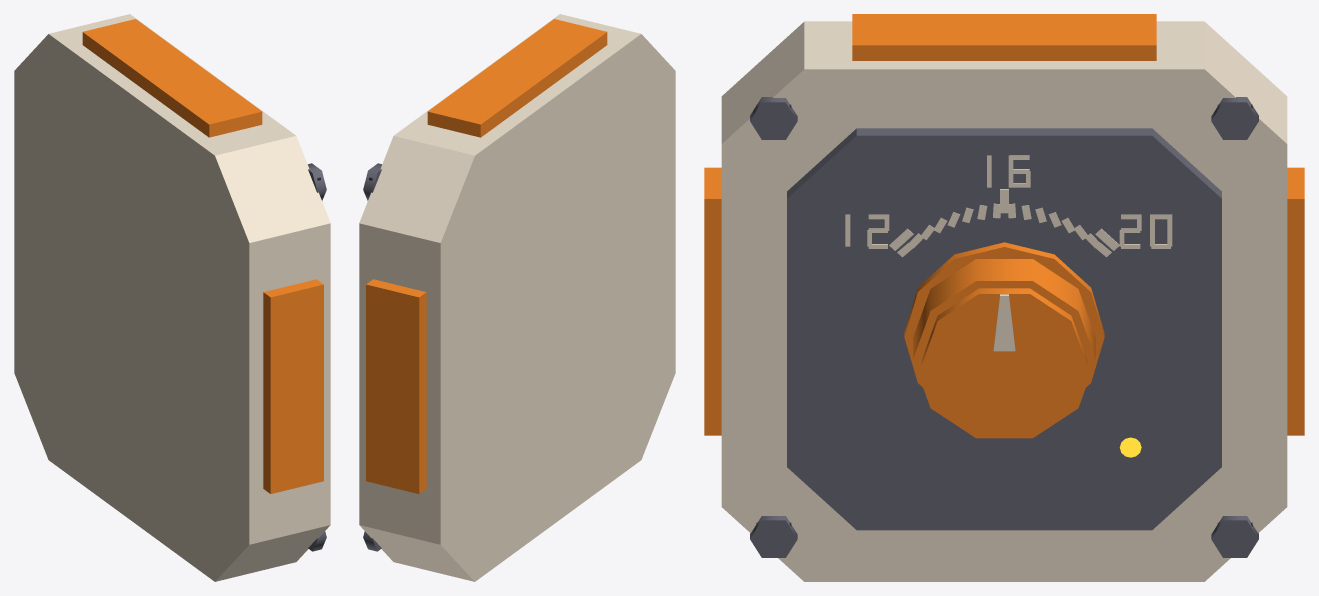
File: asset.glb
3 views of the same model, side by side, from view 1: azimuth 30°, elevation 25°; view 2: azimuth 150°, elevation 25°; view 3: azimuth 270°, elevation 25° (orthographic). The views are drawn at different scales.
Visible parts, largest first — view 1: Mesh_HousingBody, Mesh_SideAccentL, Mesh_TopAccent; view 2: Mesh_HousingBody, Mesh_SideAccentR, Mesh_TopAccent; view 3: Mesh_InnerBezel, Mesh_HousingBody, Mesh_KnobCap, Mesh_TopAccent, Mesh_KnobBody, Mesh_SideAccentL, Mesh_SideAccentR, Mesh_KnobCollar, Mesh_CornerBolt_0, Mesh_CornerBolt_1, Mesh_CornerBolt_2, Mesh_CornerBolt_3 (+1 smaller).
Boxes of the visible parts, bbox=[...] form: Mesh_HousingBody: bbox=[14, 14, 330, 581]; Mesh_SideAccentL: bbox=[263, 279, 323, 493]; Mesh_TopAccent: bbox=[82, 19, 262, 137]; Mesh_HousingBody: bbox=[359, 14, 675, 581]; Mesh_SideAccentR: bbox=[366, 279, 426, 493]; Mesh_TopAccent: bbox=[427, 19, 607, 137]; Mesh_InnerBezel: bbox=[787, 128, 1221, 530]; Mesh_HousingBody: bbox=[721, 21, 1287, 581]; Mesh_KnobCap: bbox=[921, 288, 1087, 436]; Mesh_TopAccent: bbox=[852, 14, 1156, 60]; Mesh_KnobBody: bbox=[913, 259, 1095, 438]; Mesh_SideAccentL: bbox=[704, 167, 721, 435]; Mesh_SideAccentR: bbox=[1287, 167, 1304, 435]; Mesh_KnobCollar: bbox=[904, 242, 1104, 387]; Mesh_CornerBolt_0: bbox=[750, 97, 797, 139]; Mesh_CornerBolt_1: bbox=[1211, 97, 1258, 139]; Mesh_CornerBolt_2: bbox=[750, 516, 797, 557]; Mesh_CornerBolt_3: bbox=[1211, 516, 1258, 557].
Size of the model in its own units: 0.097 by 0.268 by 0.276.
